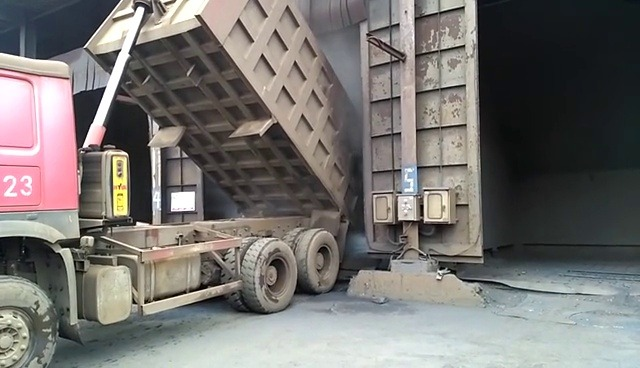dust: (320, 30, 360, 84), (220, 193, 300, 218)
truck: (0, 0, 364, 368)
